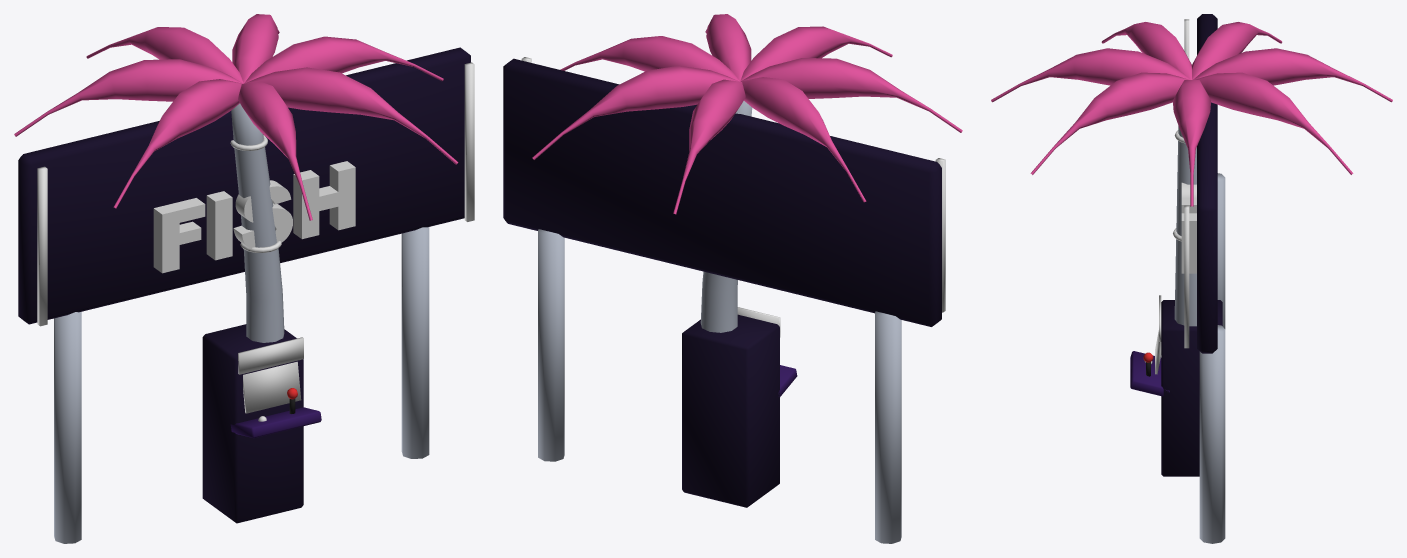
File: neonprops.glb
The picture shows the model from 3 angles, left to right: view 1: azimuth 30°, elevation 25°; view 2: azimuth 150°, elevation 25°; view 3: azimuth 270°, elevation 25°; orthographic projection. The views are drawn at different scales.
Visible parts, largest first — view 1: Sign, Palm, Arcade, SignGlow, ArcadeGlow; view 2: Sign, Palm, Arcade, SignGlow; view 3: Palm, Sign, Arcade, SignGlow.
Part boxes in pixels (left/top/right/bottom): Sign: left=18, top=47, right=470, bottom=543; Palm: left=14, top=14, right=458, bottom=342; Arcade: left=202, top=324, right=321, bottom=523; SignGlow: left=37, top=62, right=474, bottom=326; ArcadeGlow: left=238, top=337, right=303, bottom=421; Sign: left=503, top=58, right=941, bottom=543; Palm: left=532, top=14, right=962, bottom=332; Arcade: left=682, top=314, right=797, bottom=507; SignGlow: left=521, top=57, right=945, bottom=312; Palm: left=991, top=22, right=1392, bottom=326; Sign: left=1197, top=14, right=1225, bottom=543; Arcade: left=1130, top=300, right=1222, bottom=476; SignGlow: left=1181, top=19, right=1196, bottom=348.
Bounding box in the file's own units: 9 × 8.61 × 7.84.
